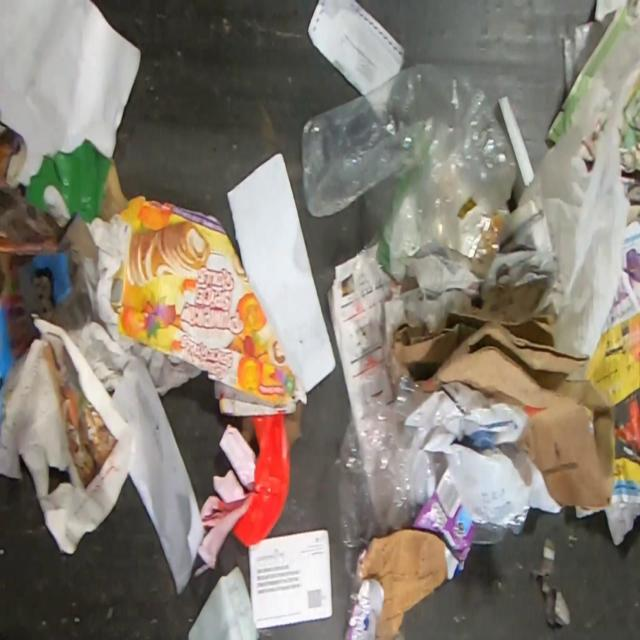cardboard: (390, 277, 615, 511), (82, 195, 308, 417)
rigid_plastic: (194, 413, 291, 579)
soft_plastic: (300, 62, 518, 283), (512, 75, 630, 357), (334, 372, 464, 548), (454, 447, 533, 544), (346, 576, 370, 640)
